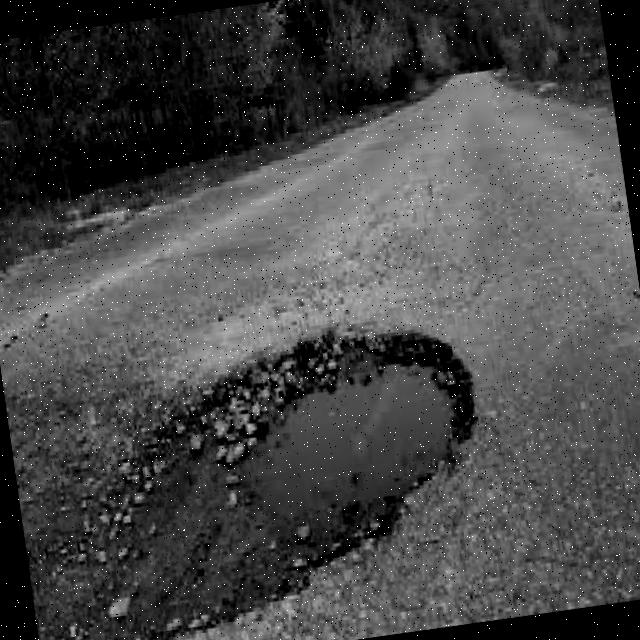pothole: (179, 333, 476, 618)
